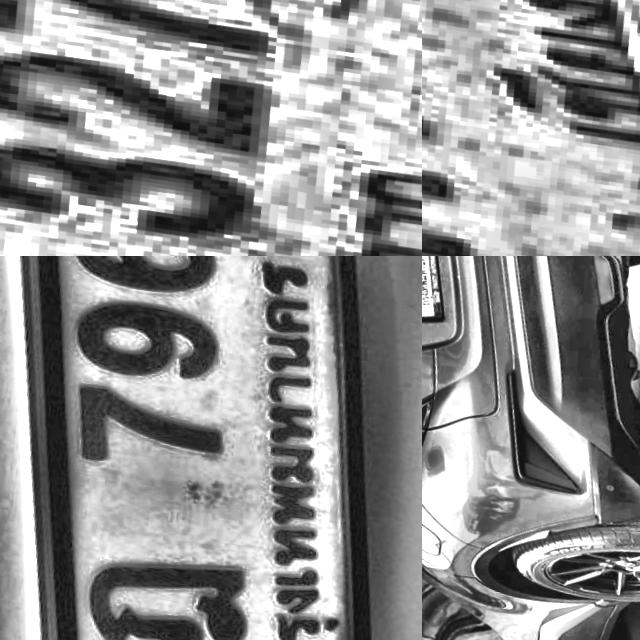license-plate: (0, 256, 422, 640), (0, 0, 422, 256), (422, 0, 640, 256), (422, 256, 450, 329)
